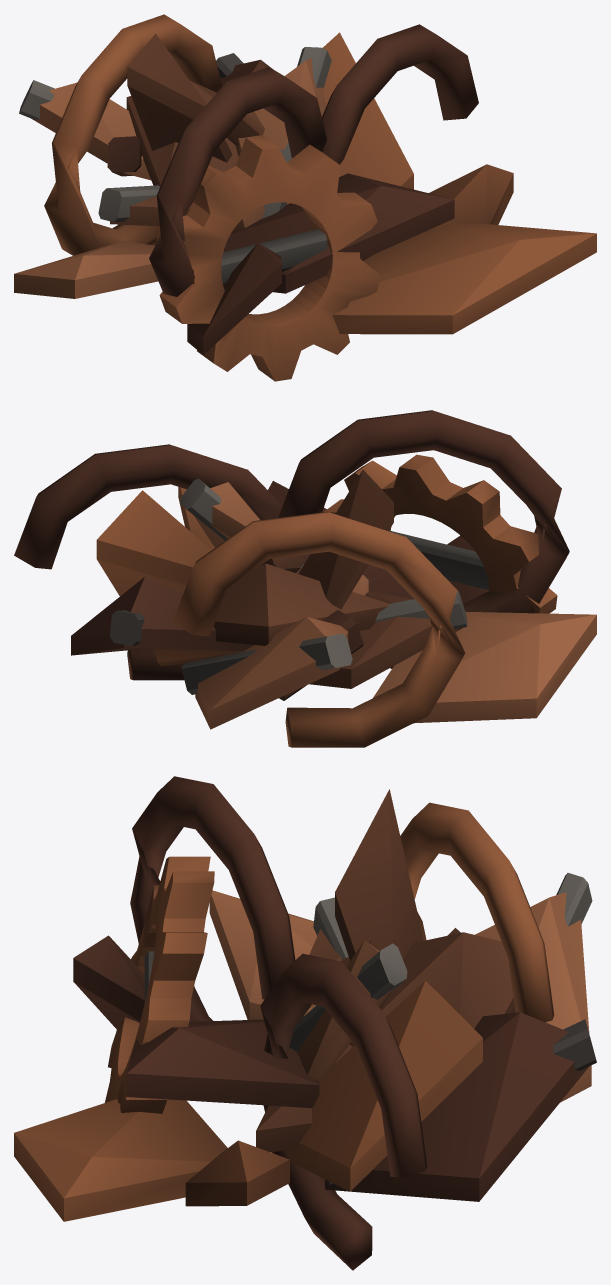
Rendered from building-magnetCrane-scrapSmall-v2.glb.
The picture shows the model from 3 angles, top to bottom: view 1: azimuth 30°, elevation 25°; view 2: azimuth 150°, elevation 25°; view 3: azimuth 270°, elevation 25°; orthographic projection. The views are drawn at different scales.
Parts seen in each view (by area): view 1: 0_magnetCrane-scrapSmall; view 2: 0_magnetCrane-scrapSmall; view 3: 0_magnetCrane-scrapSmall.
Boxes of the visible parts, x1=… form: 0_magnetCrane-scrapSmall: x1=14, y1=14, x2=596, y2=381; 0_magnetCrane-scrapSmall: x1=14, y1=410, x2=596, y2=747; 0_magnetCrane-scrapSmall: x1=14, y1=776, x2=596, y2=1270.
Size of the model in its own units: 1 by 0.5453 by 0.8429.
